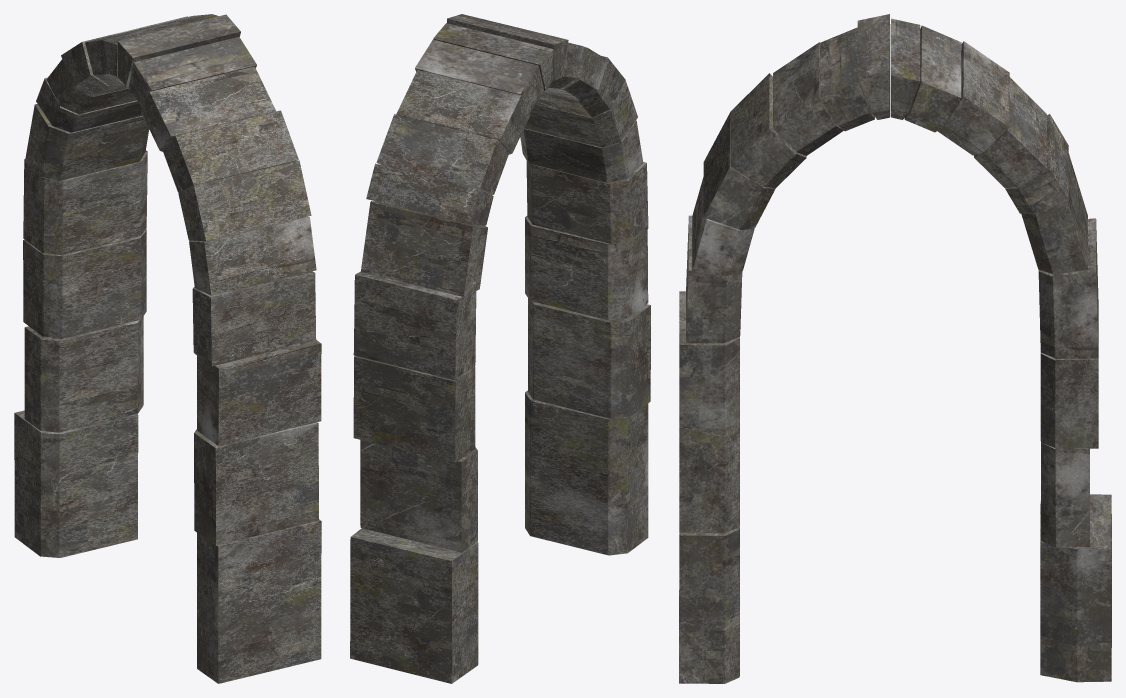
The model's file is SM_DoorFrame_A_02.fbx.
3 views of the same model, side by side, from view 1: azimuth 30°, elevation 25°; view 2: azimuth 150°, elevation 25°; view 3: azimuth 270°, elevation 25° (orthographic). The views are drawn at different scales.
Parts seen in each view (by area): view 1: SM_DoorFrame_A_02_LOD0; view 2: SM_DoorFrame_A_02_LOD0; view 3: SM_DoorFrame_A_02_LOD0.
Part boxes in pixels (left/top/right/bottom): SM_DoorFrame_A_02_LOD0: left=14, top=14, right=321, bottom=683; SM_DoorFrame_A_02_LOD0: left=350, top=14, right=650, bottom=683; SM_DoorFrame_A_02_LOD0: left=679, top=14, right=1111, bottom=683.
Bounding box in the file's own units: 56.11 × 178 × 278.
